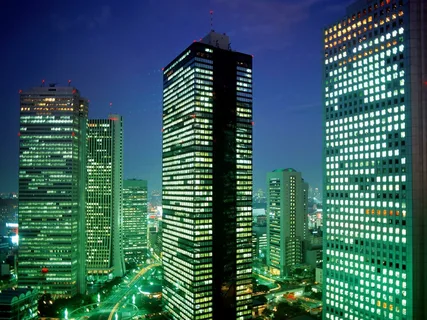high_rise_building: (318, 12, 418, 318), (156, 21, 258, 315), (14, 72, 89, 299)
